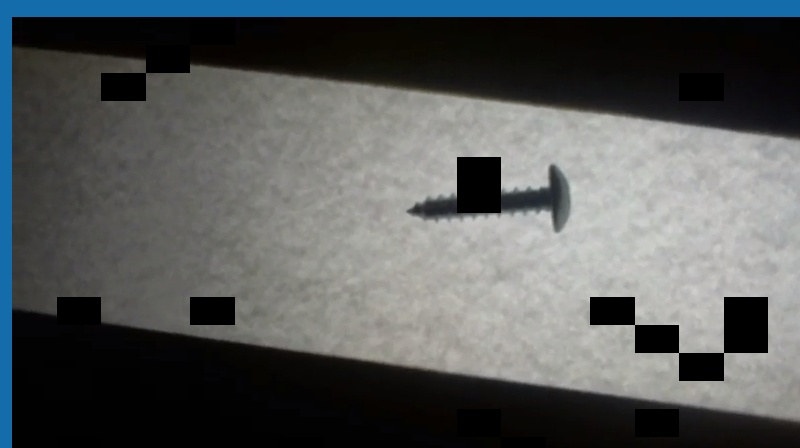S003: (401, 161, 577, 233)
